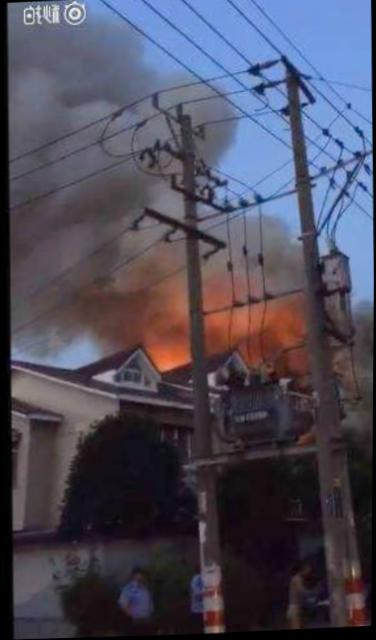fire: (141, 269, 311, 385)
